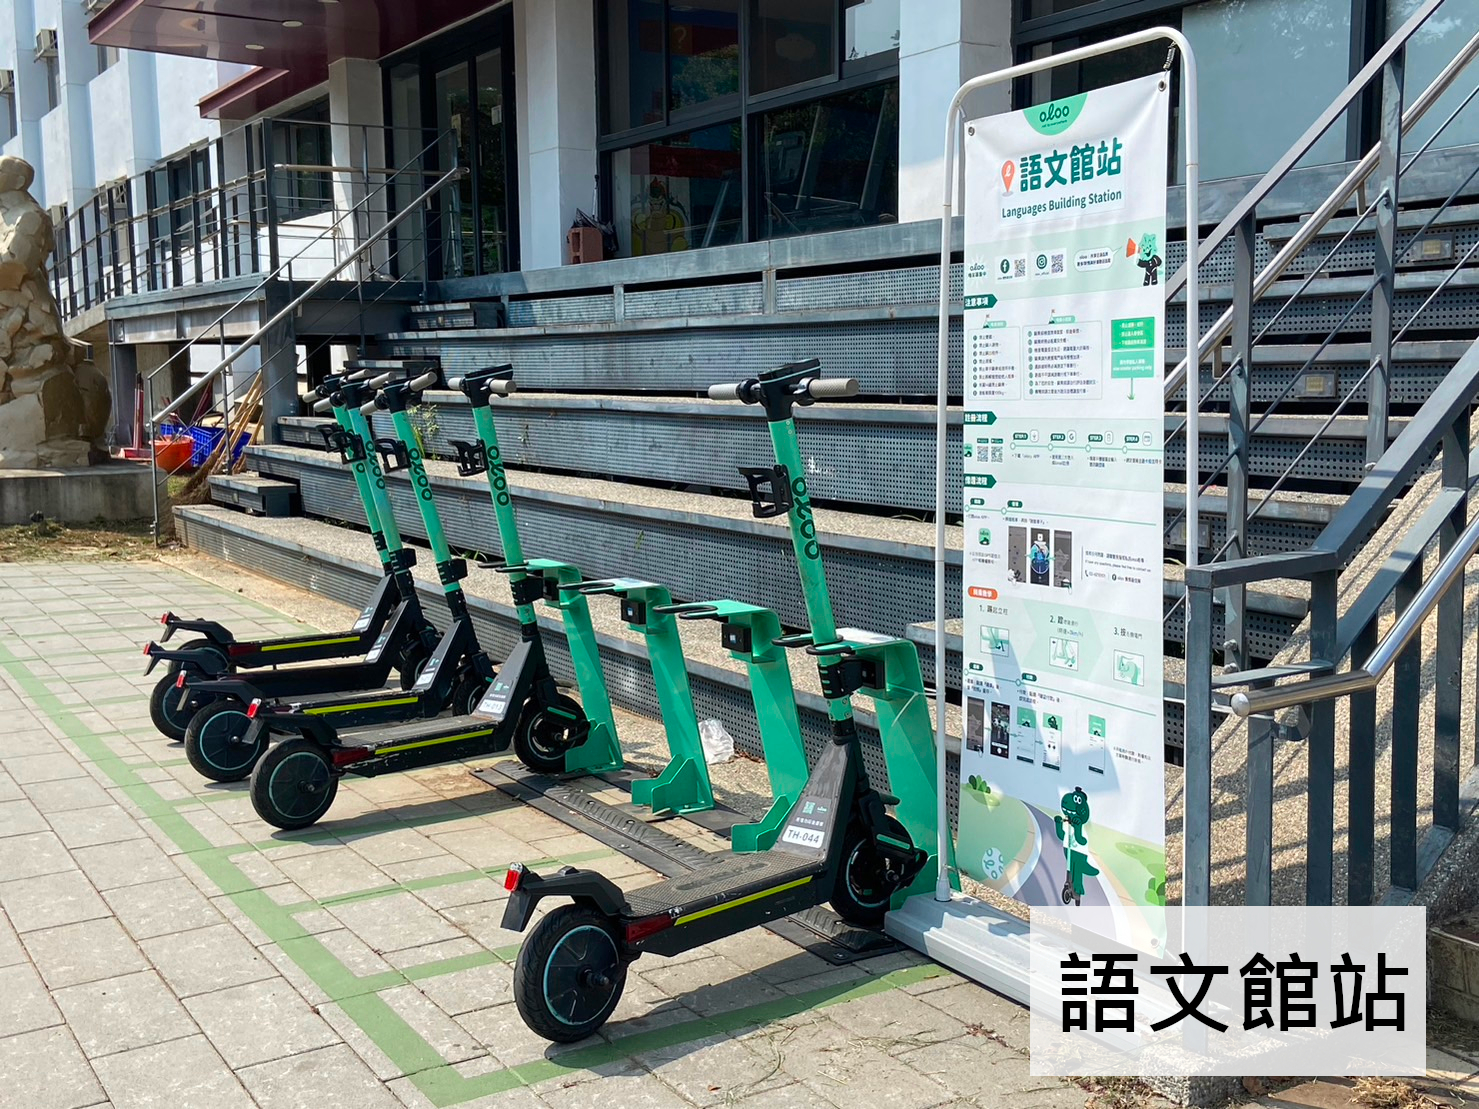scooter: (489, 352, 922, 1051), (245, 363, 593, 835), (178, 366, 505, 782), (143, 367, 422, 742), (160, 366, 424, 674)
